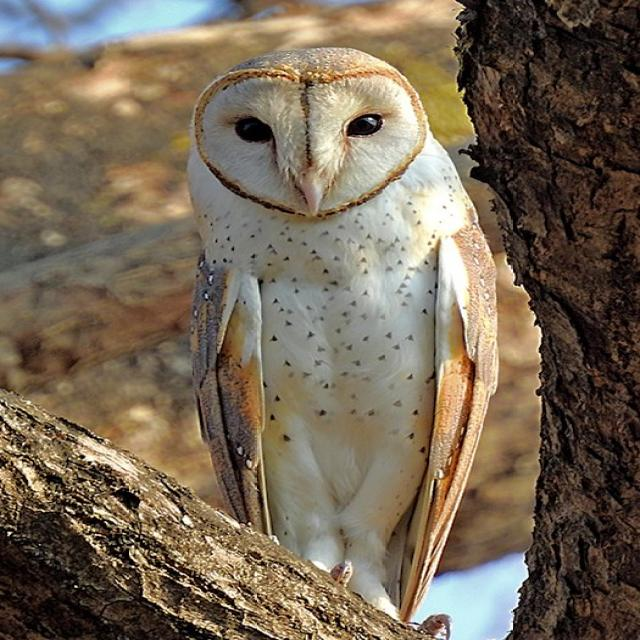Owl: (159, 37, 503, 630)
